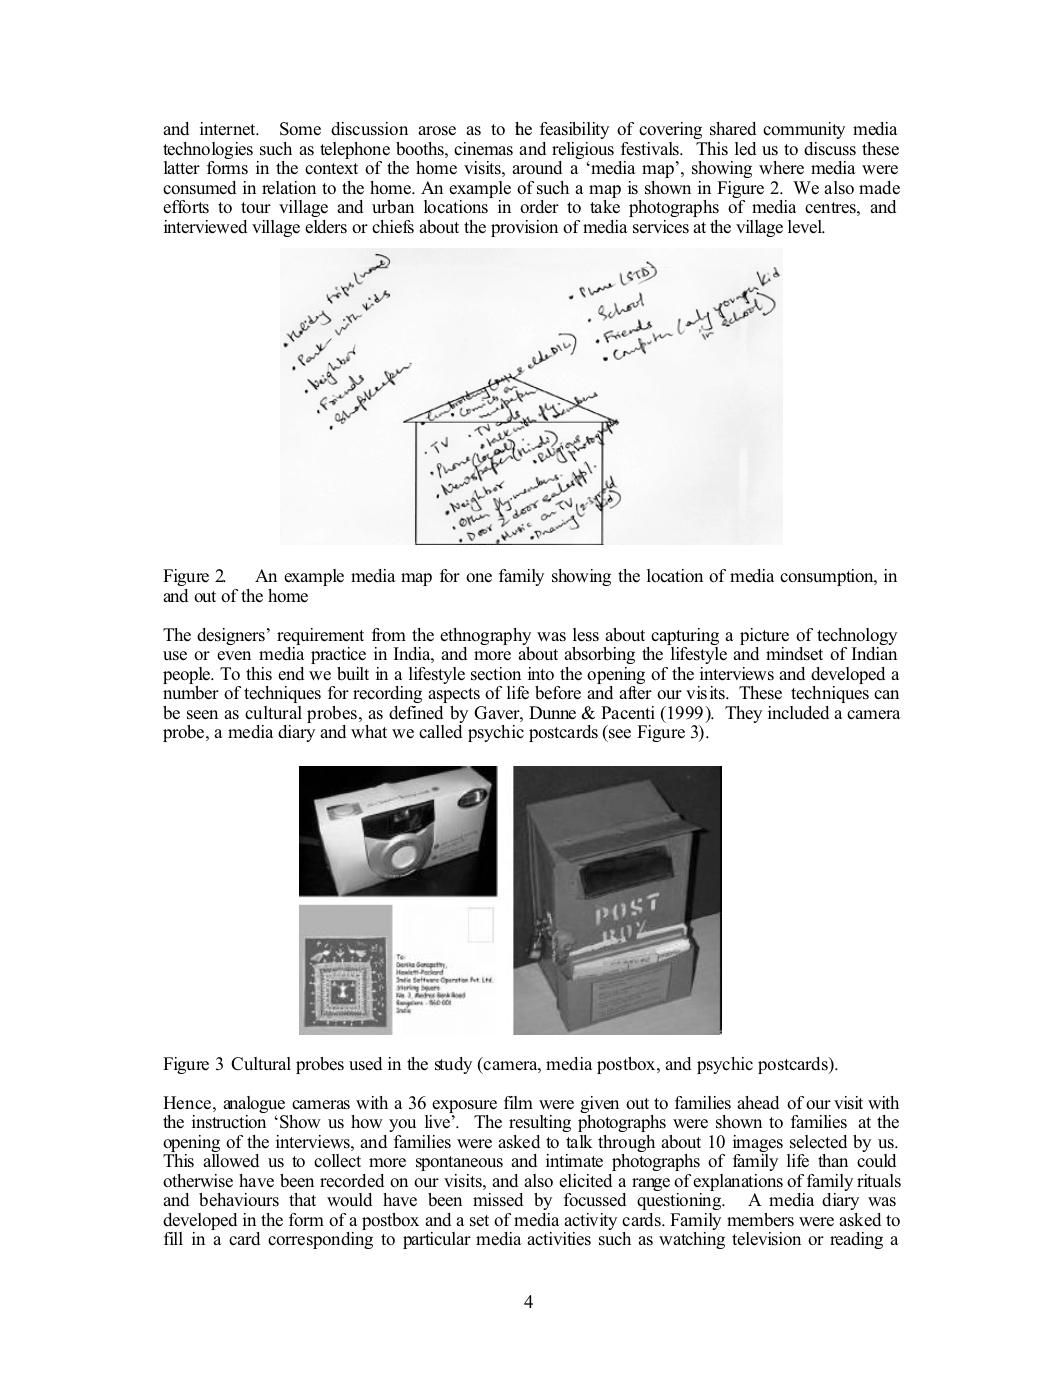figure: (283, 247, 780, 545), (513, 765, 721, 1035), (299, 765, 497, 898), (299, 903, 494, 1035)
